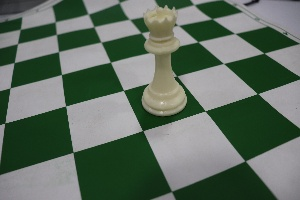white_queen: (136, 1, 192, 119)
